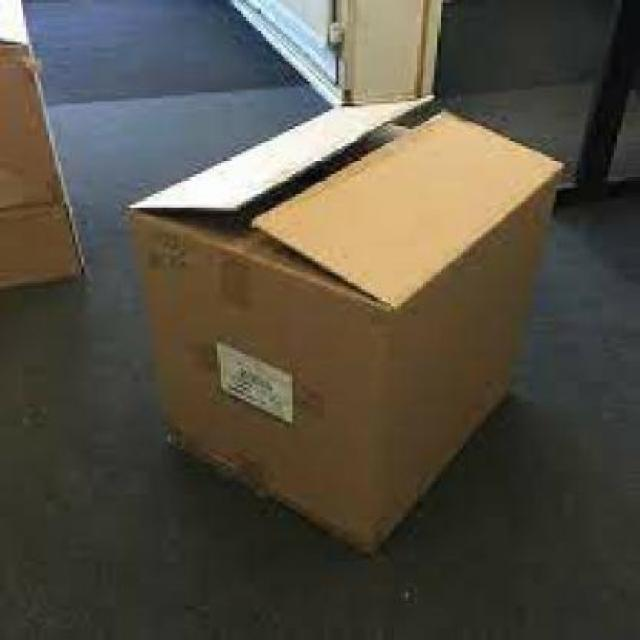-: (134, 107, 570, 556)
